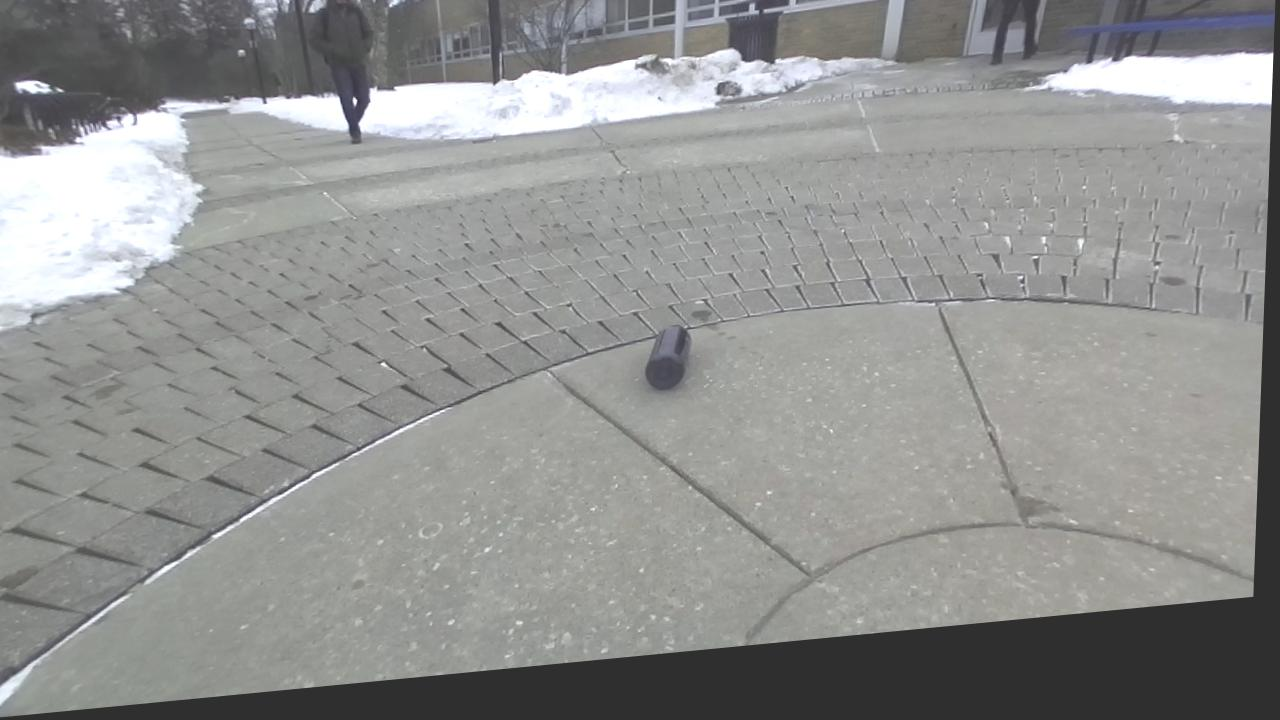bottle: (645, 325, 690, 387)
